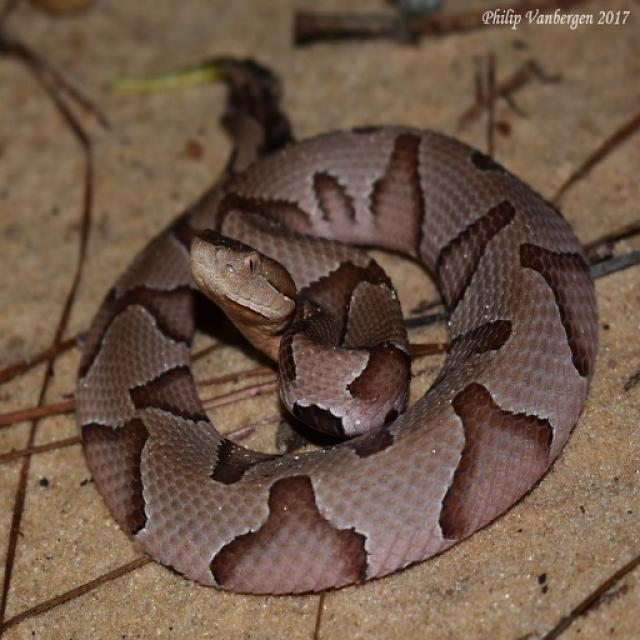snake: (75, 43, 611, 607)
